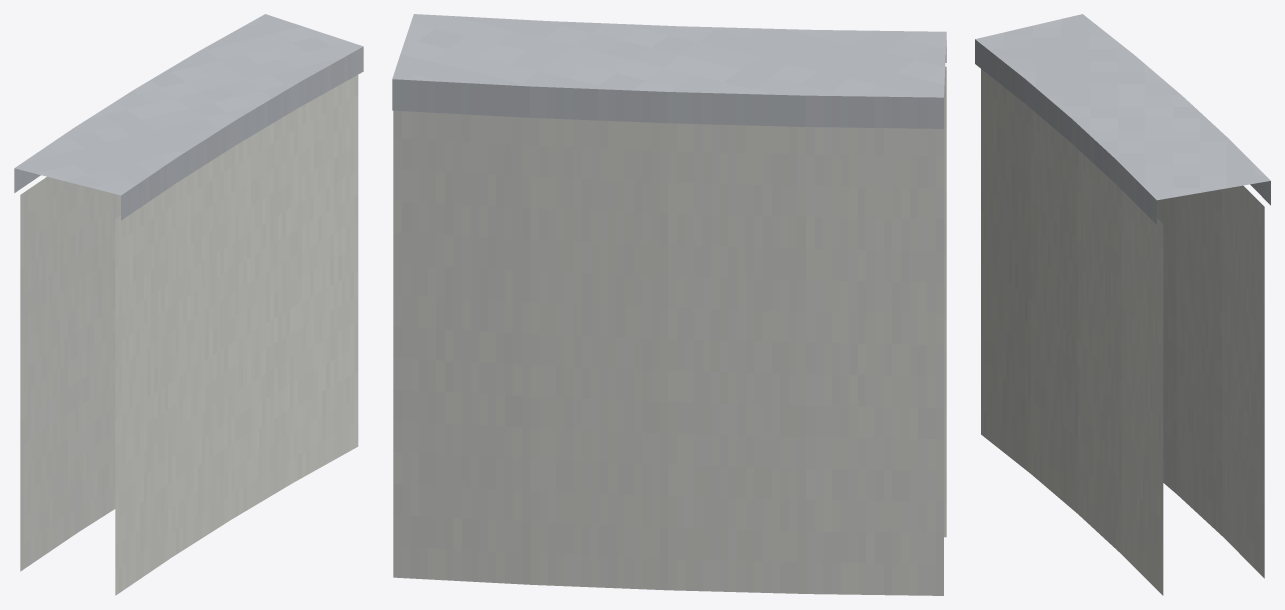
File: curve_board_11.obj
3 views of the same model, side by side, from view 1: azimuth 30°, elevation 25°; view 2: azimuth 150°, elevation 25°; view 3: azimuth 270°, elevation 25° (orthographic). The views are drawn at different scales.
Visible parts, largest first — view 1: curve_board_11; view 2: curve_board_11; view 3: curve_board_11.
Part boxes in pixels (<box>): curve_board_11: <box>14,14,363,595</box>; curve_board_11: <box>392,14,946,595</box>; curve_board_11: <box>975,14,1270,595</box>.
Bounding box in the file's own units: 1.01 × 1 × 0.6761.
